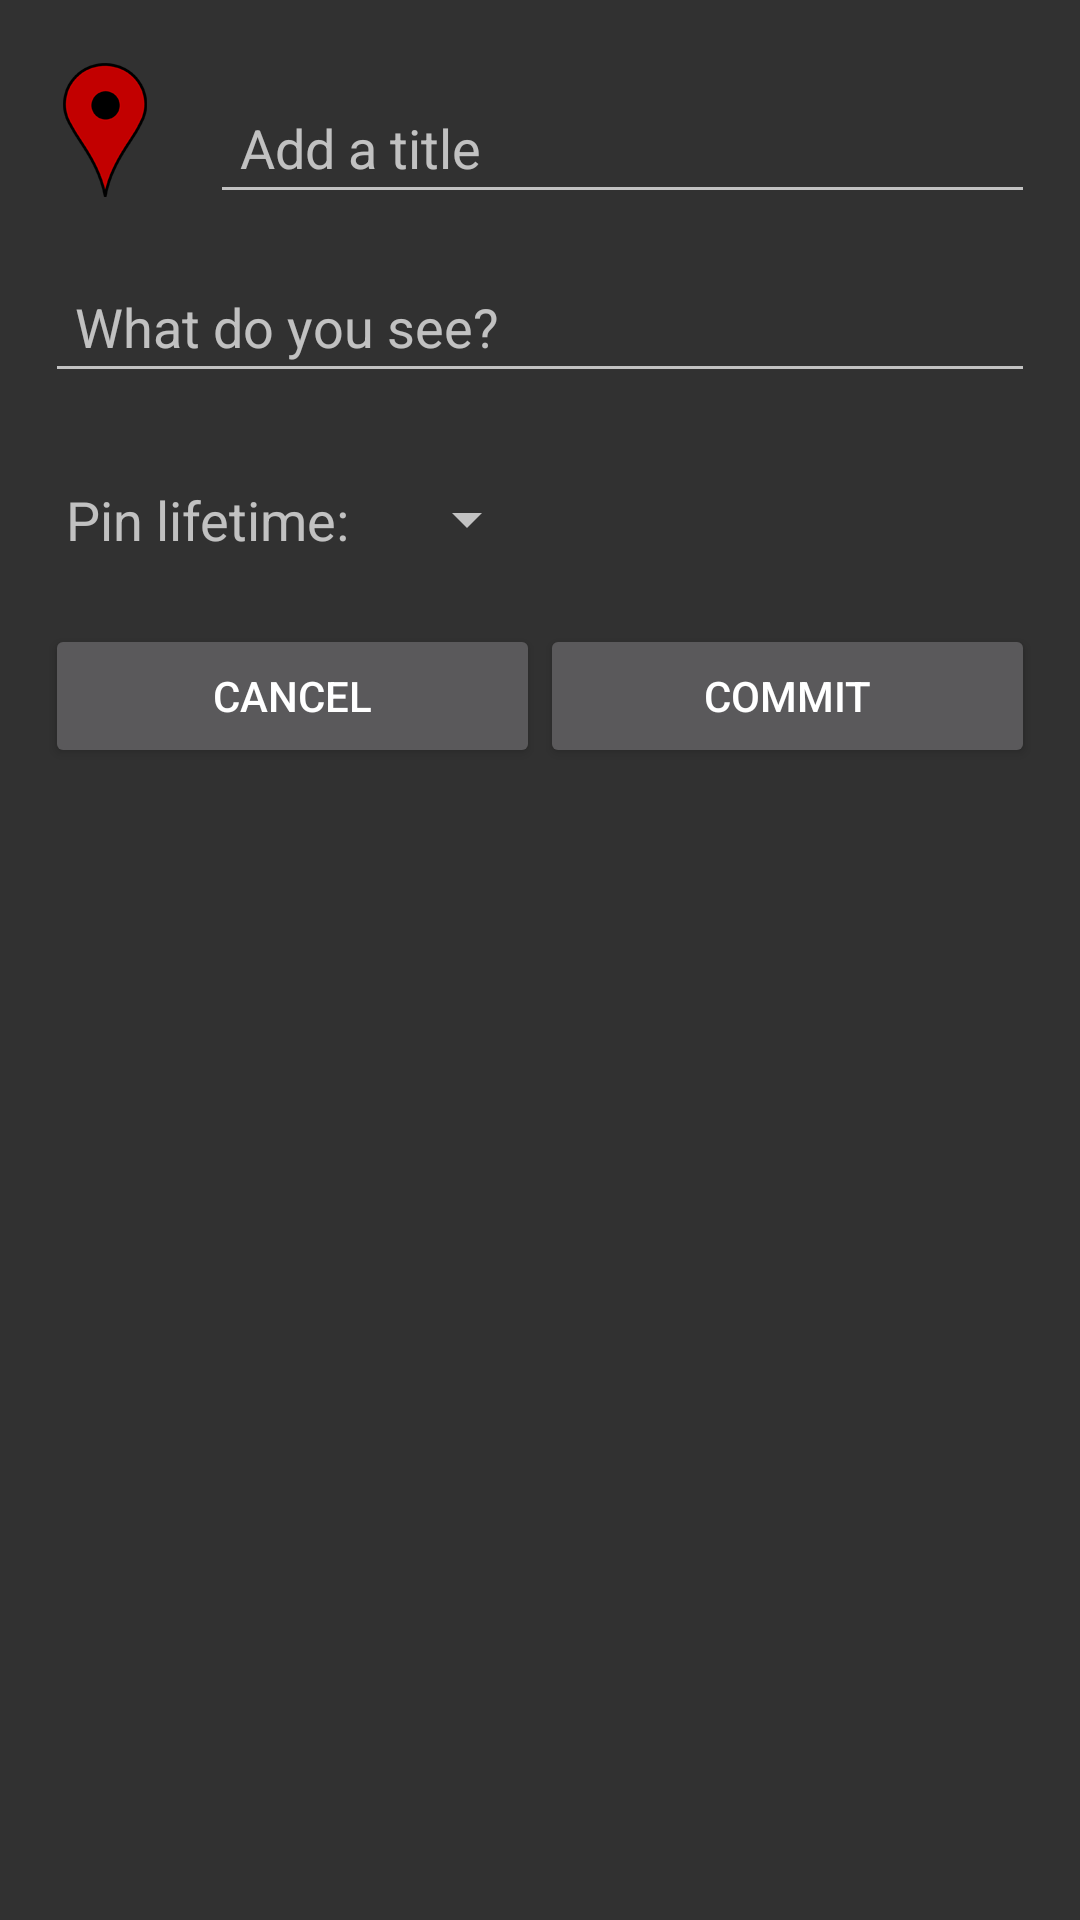

Icons on this 1080*1920 Android screen, each with the point to tap as point (x, y):
redmarker: point (105, 130)
